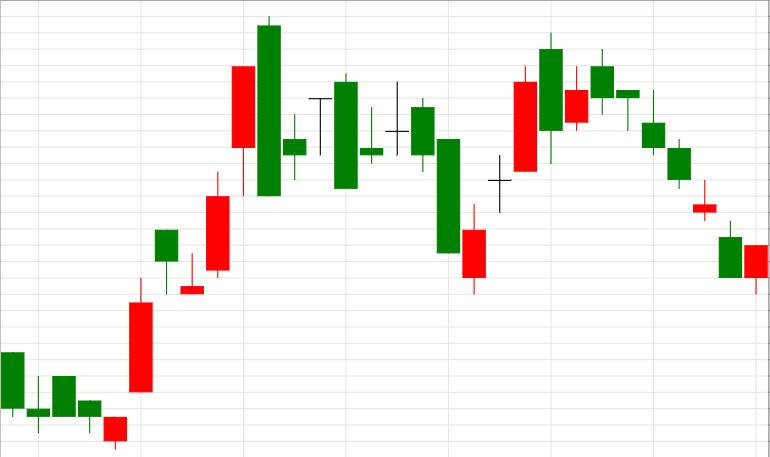bearish_engulfing_fall: (104, 16, 280, 449)
